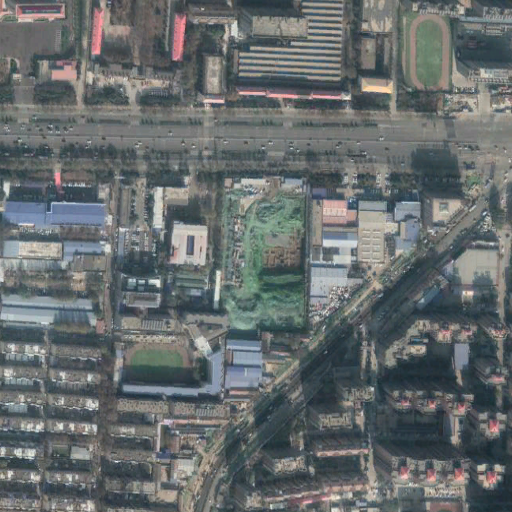cw: (221, 173, 306, 330)
